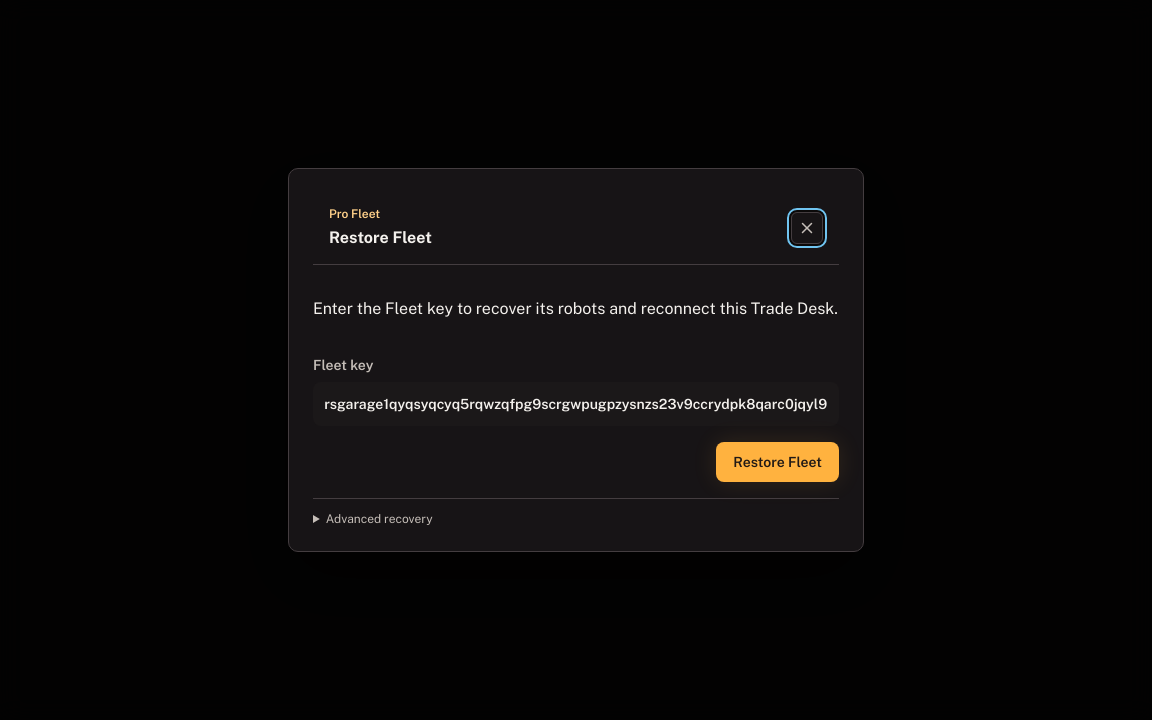
Test: GarageRecoveryDialog › offers a simple retry while keeping advanced file recovery closed
Click the button "Restore Fleet": (778, 462) x1=716 y1=442 x2=839 y2=482
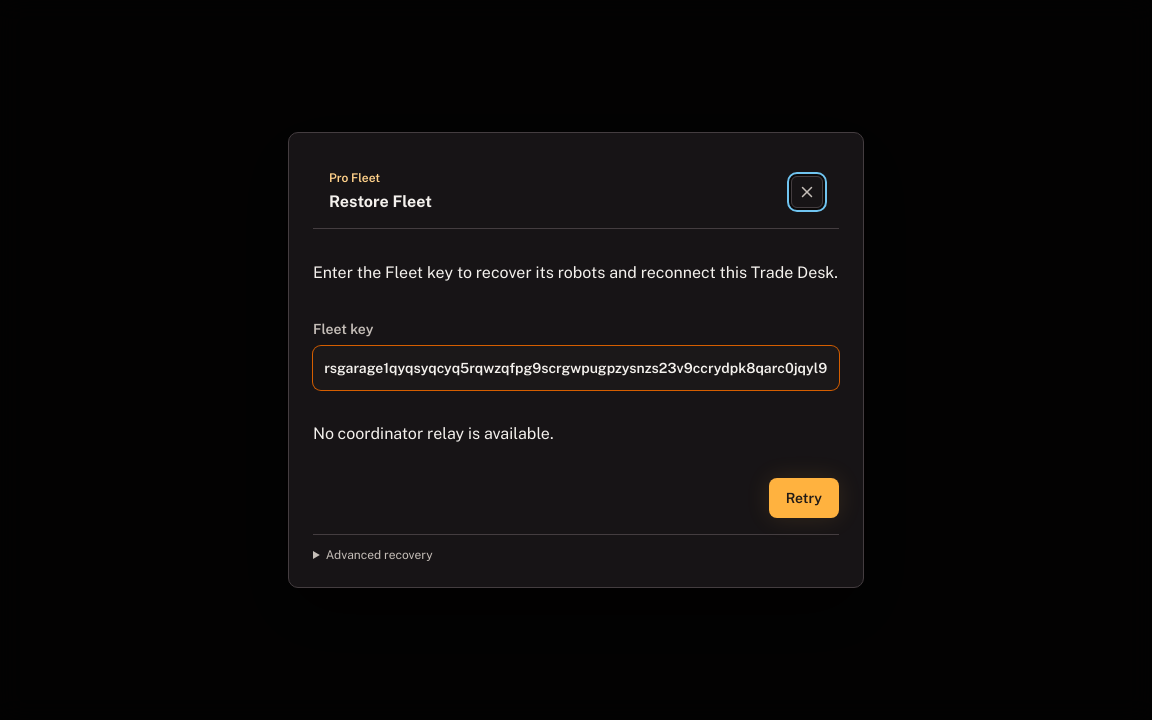
Expected: the button "Retry" is shown, x1=769 y1=478 x2=839 y2=518
Result: the text "No coordinator relay is available" is shown at x1=313 y1=424 x2=554 y2=443
